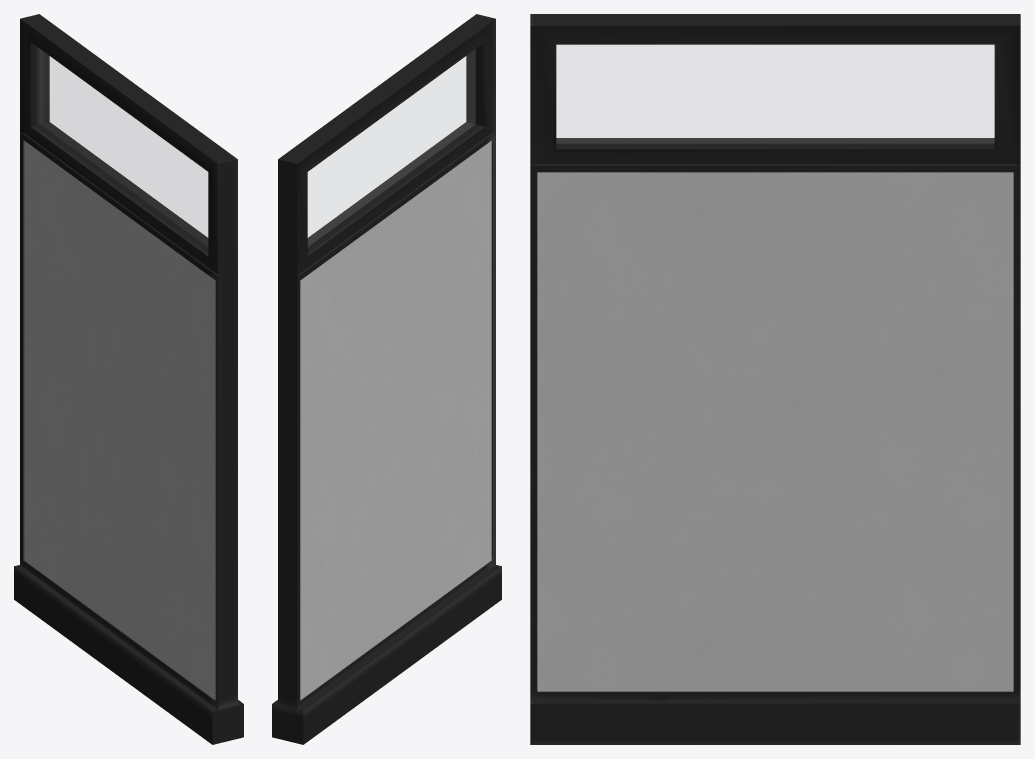
File: partition.gltf
3 views of the same model, side by side, from view 1: azimuth 30°, elevation 25°; view 2: azimuth 150°, elevation 25°; view 3: azimuth 270°, elevation 25° (orthographic). The views are drawn at different scales.
Parts seen in each view (by area): view 1: Cubicle_Wall.003_64; view 2: Cubicle_Wall.003_64; view 3: Cubicle_Wall.003_64.
Part boxes in pixels (x1=…): Cubicle_Wall.003_64: x1=14, y1=14, x2=243, y2=744; Cubicle_Wall.003_64: x1=272, y1=14, x2=501, y2=744; Cubicle_Wall.003_64: x1=530, y1=14, x2=1020, y2=744.
Size of the model in its own units: 0.0798 by 1.41 by 0.8756.
2 materials, 1 textured.
